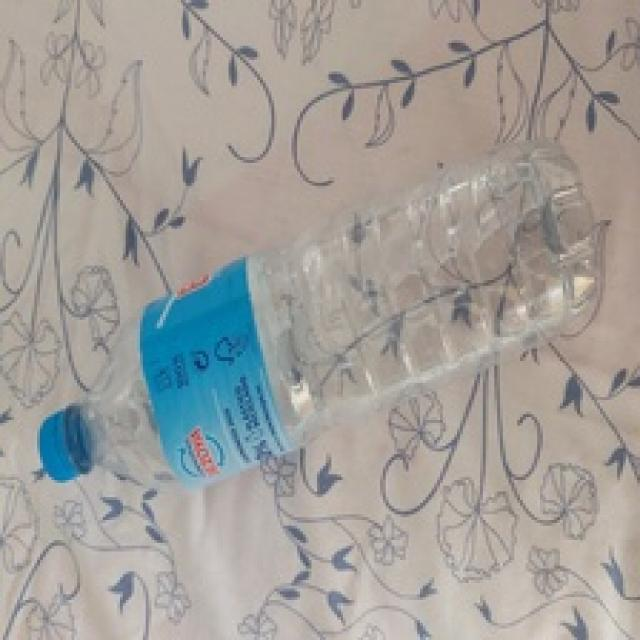Plastic: (38, 137, 598, 504)
